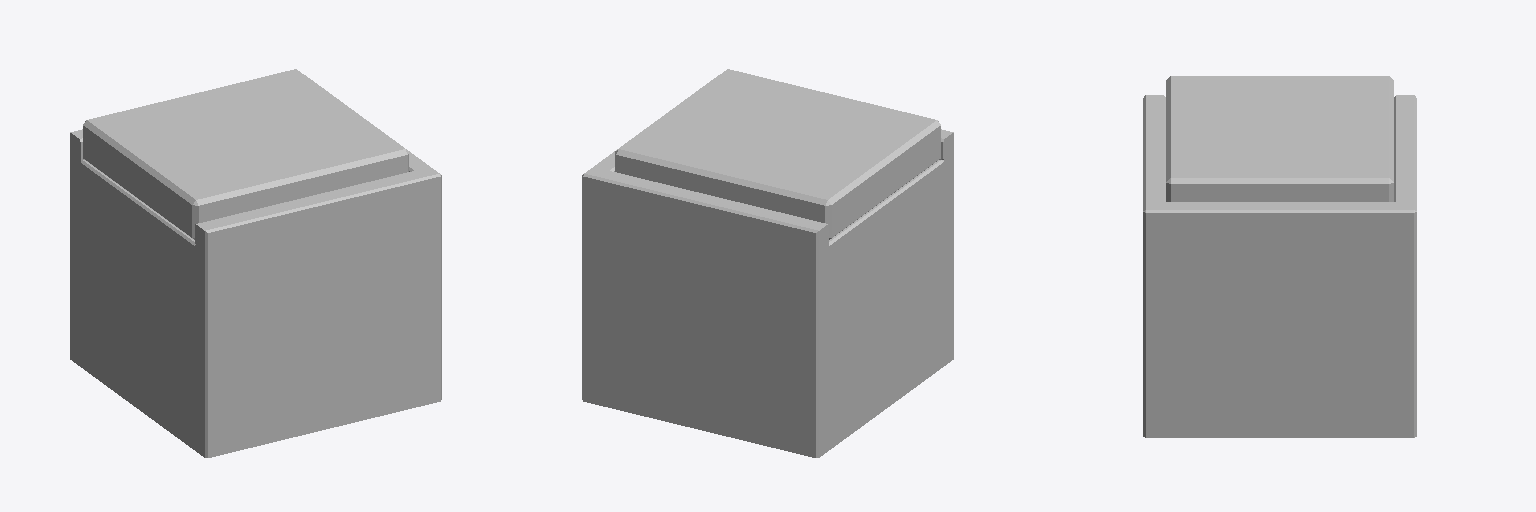
Rendered from stool-alt.obj.
3 views of the same model, side by side, from view 1: azimuth 30°, elevation 25°; view 2: azimuth 150°, elevation 25°; view 3: azimuth 270°, elevation 25° (orthographic).
Visible parts, largest first — view 1: stool_Cube.001, cushion_Cube.002; view 2: stool_Cube.001, cushion_Cube.002; view 3: stool_Cube.001, cushion_Cube.002.
Part boxes in pixels (x1,y1,x2,y2): stool_Cube.001: (70,75,441,457); cushion_Cube.002: (83,69,408,239); stool_Cube.001: (582,75,953,457); cushion_Cube.002: (615,69,940,239); stool_Cube.001: (1143,95,1416,437); cushion_Cube.002: (1166,76,1393,201).
Bounding box in the file's own units: 0.6 × 0.6 × 0.6.